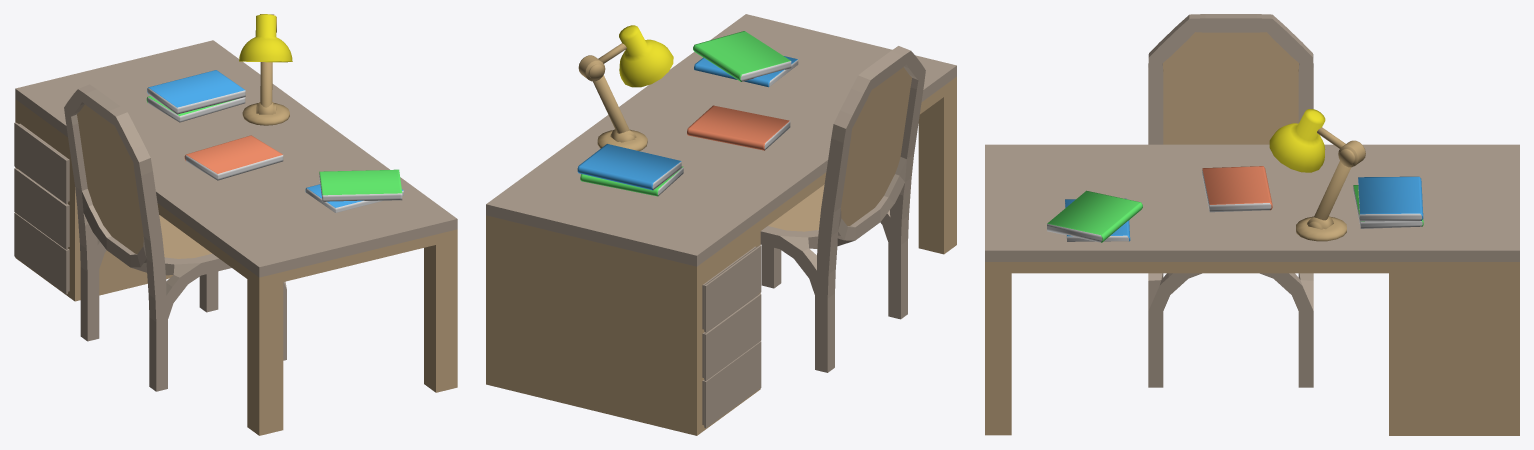
Rendered from Meja Belajar.glb.
3 renders of one model, left to right at view 1: azimuth 30°, elevation 25°; view 2: azimuth 150°, elevation 25°; view 3: azimuth 270°, elevation 25°, orthographic. The views are drawn at different scales.
Visible parts, largest first — view 1: Cube, Cube.006, Sphere, Cube.003, Cube.001, Cube.002, Cube.005, Cube.004; view 2: Cube, Cube.006, Sphere, Cube.003, Cube.001, Cube.002, Cube.004, Cube.005; view 3: Cube, Cube.006, Sphere, Cube.002, Cube.003, Cube.001, Cube.005.
Part boxes in pixels (x1=…): Cube: x1=14, y1=40, x2=457, y2=435; Cube.006: x1=64, y1=84, x2=286, y2=391; Sphere: x1=239, y1=14, x2=292, y2=125; Cube.003: x1=147, y1=70, x2=245, y2=114; Cube.001: x1=184, y1=135, x2=283, y2=180; Cube.002: x1=319, y1=169, x2=402, y2=201; Cube.005: x1=146, y1=96, x2=245, y2=122; Cube.004: x1=305, y1=184, x2=403, y2=212; Cube: x1=486, y1=14, x2=956, y2=435; Cube.006: x1=760, y1=46, x2=925, y2=372; Sphere: x1=578, y1=25, x2=673, y2=150; Cube.003: x1=577, y1=144, x2=681, y2=190; Cube.001: x1=687, y1=105, x2=790, y2=150; Cube.002: x1=693, y1=31, x2=791, y2=81; Cube.004: x1=694, y1=56, x2=798, y2=87; Cube.005: x1=580, y1=166, x2=683, y2=196; Cube: x1=985, y1=144, x2=1519, y2=435; Cube.006: x1=1148, y1=14, x2=1313, y2=387; Sphere: x1=1269, y1=109, x2=1365, y2=241; Cube.002: x1=1047, y1=190, x2=1142, y2=242; Cube.003: x1=1358, y1=176, x2=1423, y2=221; Cube.001: x1=1202, y1=166, x2=1272, y2=212; Cube.005: x1=1353, y1=185, x2=1423, y2=228.
Bounding box in the file's own units: 1.26 × 1.36 × 2.15.
